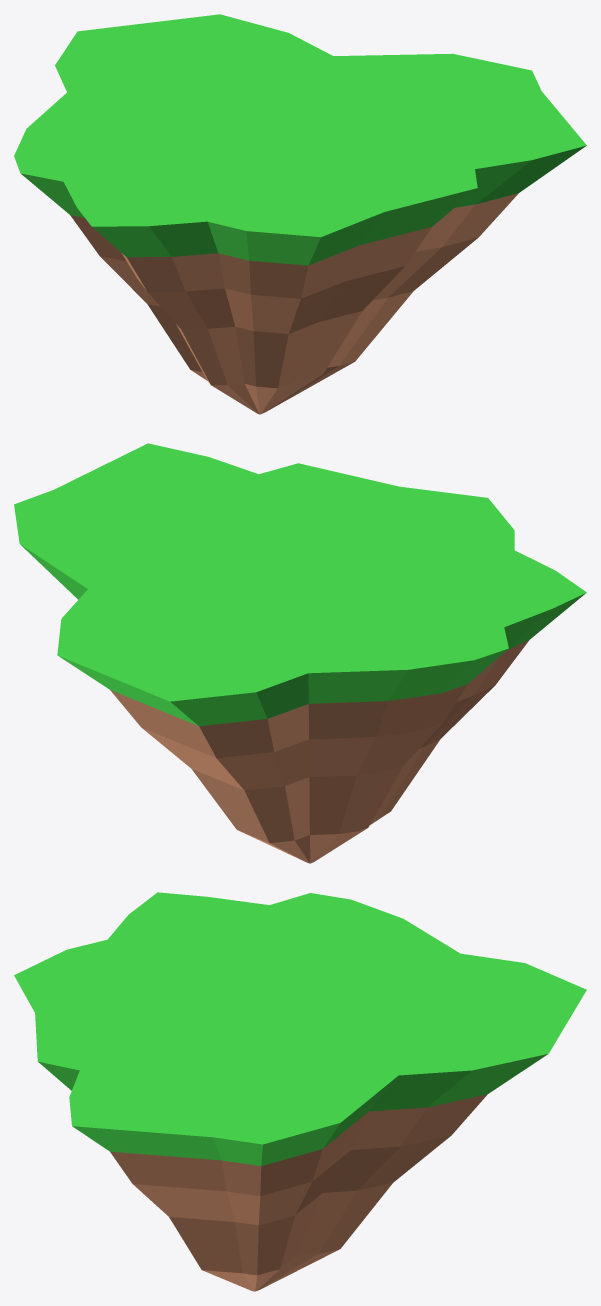
Rendered from FloatingIsland.fbx.
The picture shows the model from 3 angles, top to bottom: view 1: azimuth 30°, elevation 25°; view 2: azimuth 150°, elevation 25°; view 3: azimuth 270°, elevation 25°; orthographic projection. The views are drawn at different scales.
Parts seen in each view (by area): view 1: Plane.001, Plane; view 2: Plane.001, Plane; view 3: Plane.001, Plane.
Boxes of the visible parts, bbox=[...] form: Plane.001: bbox=[14, 14, 586, 265]; Plane: bbox=[70, 193, 518, 414]; Plane.001: bbox=[14, 443, 586, 726]; Plane: bbox=[110, 640, 529, 863]; Plane.001: bbox=[14, 892, 586, 1165]; Plane: bbox=[110, 1094, 487, 1291].
Bounding box in the file's own units: 3181 × 1700 × 3055.
